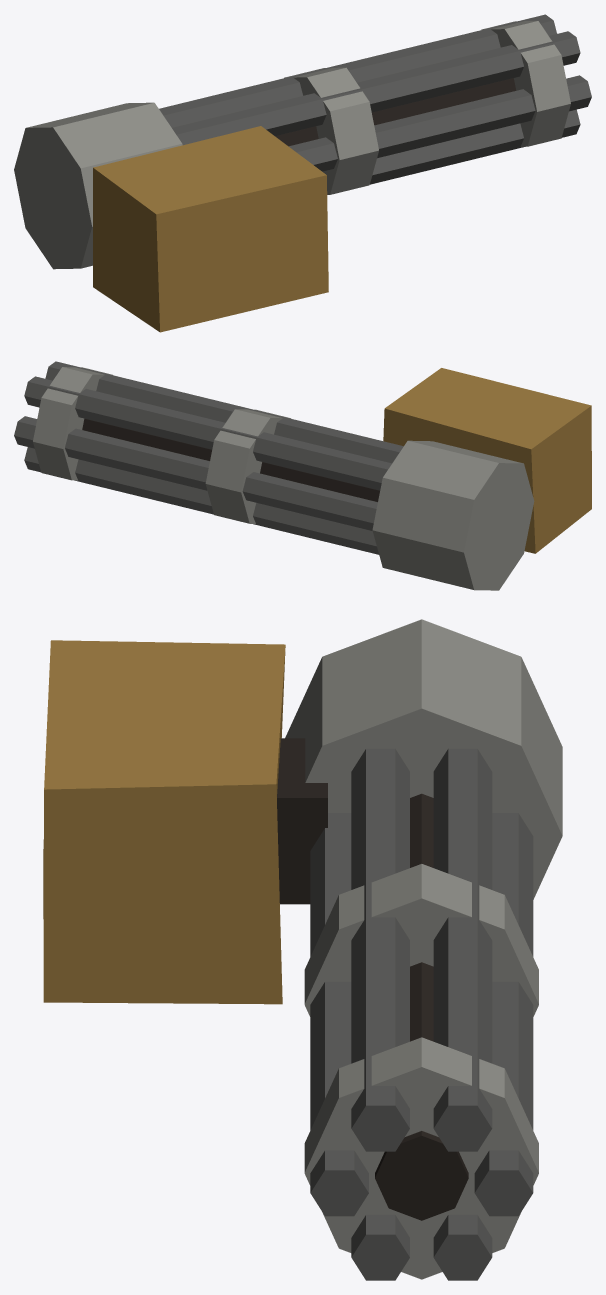
File: wbar_gatling.glb
3 views of the same model, one above another, from view 1: azimuth 30°, elevation 25°; view 2: azimuth 150°, elevation 25°; view 3: azimuth 270°, elevation 25° (orthographic). The views are drawn at different scales.
Parts seen in each view (by area): view 1: wbar_gatling; view 2: wbar_gatling; view 3: wbar_gatling.
Part boxes in pixels (<box>): wbar_gatling: <box>14,14,591,332</box>; wbar_gatling: <box>14,361,591,590</box>; wbar_gatling: <box>43,619,562,1280</box>.
Size of the model in its own units: 0.9005 by 0.24 by 0.4426.
